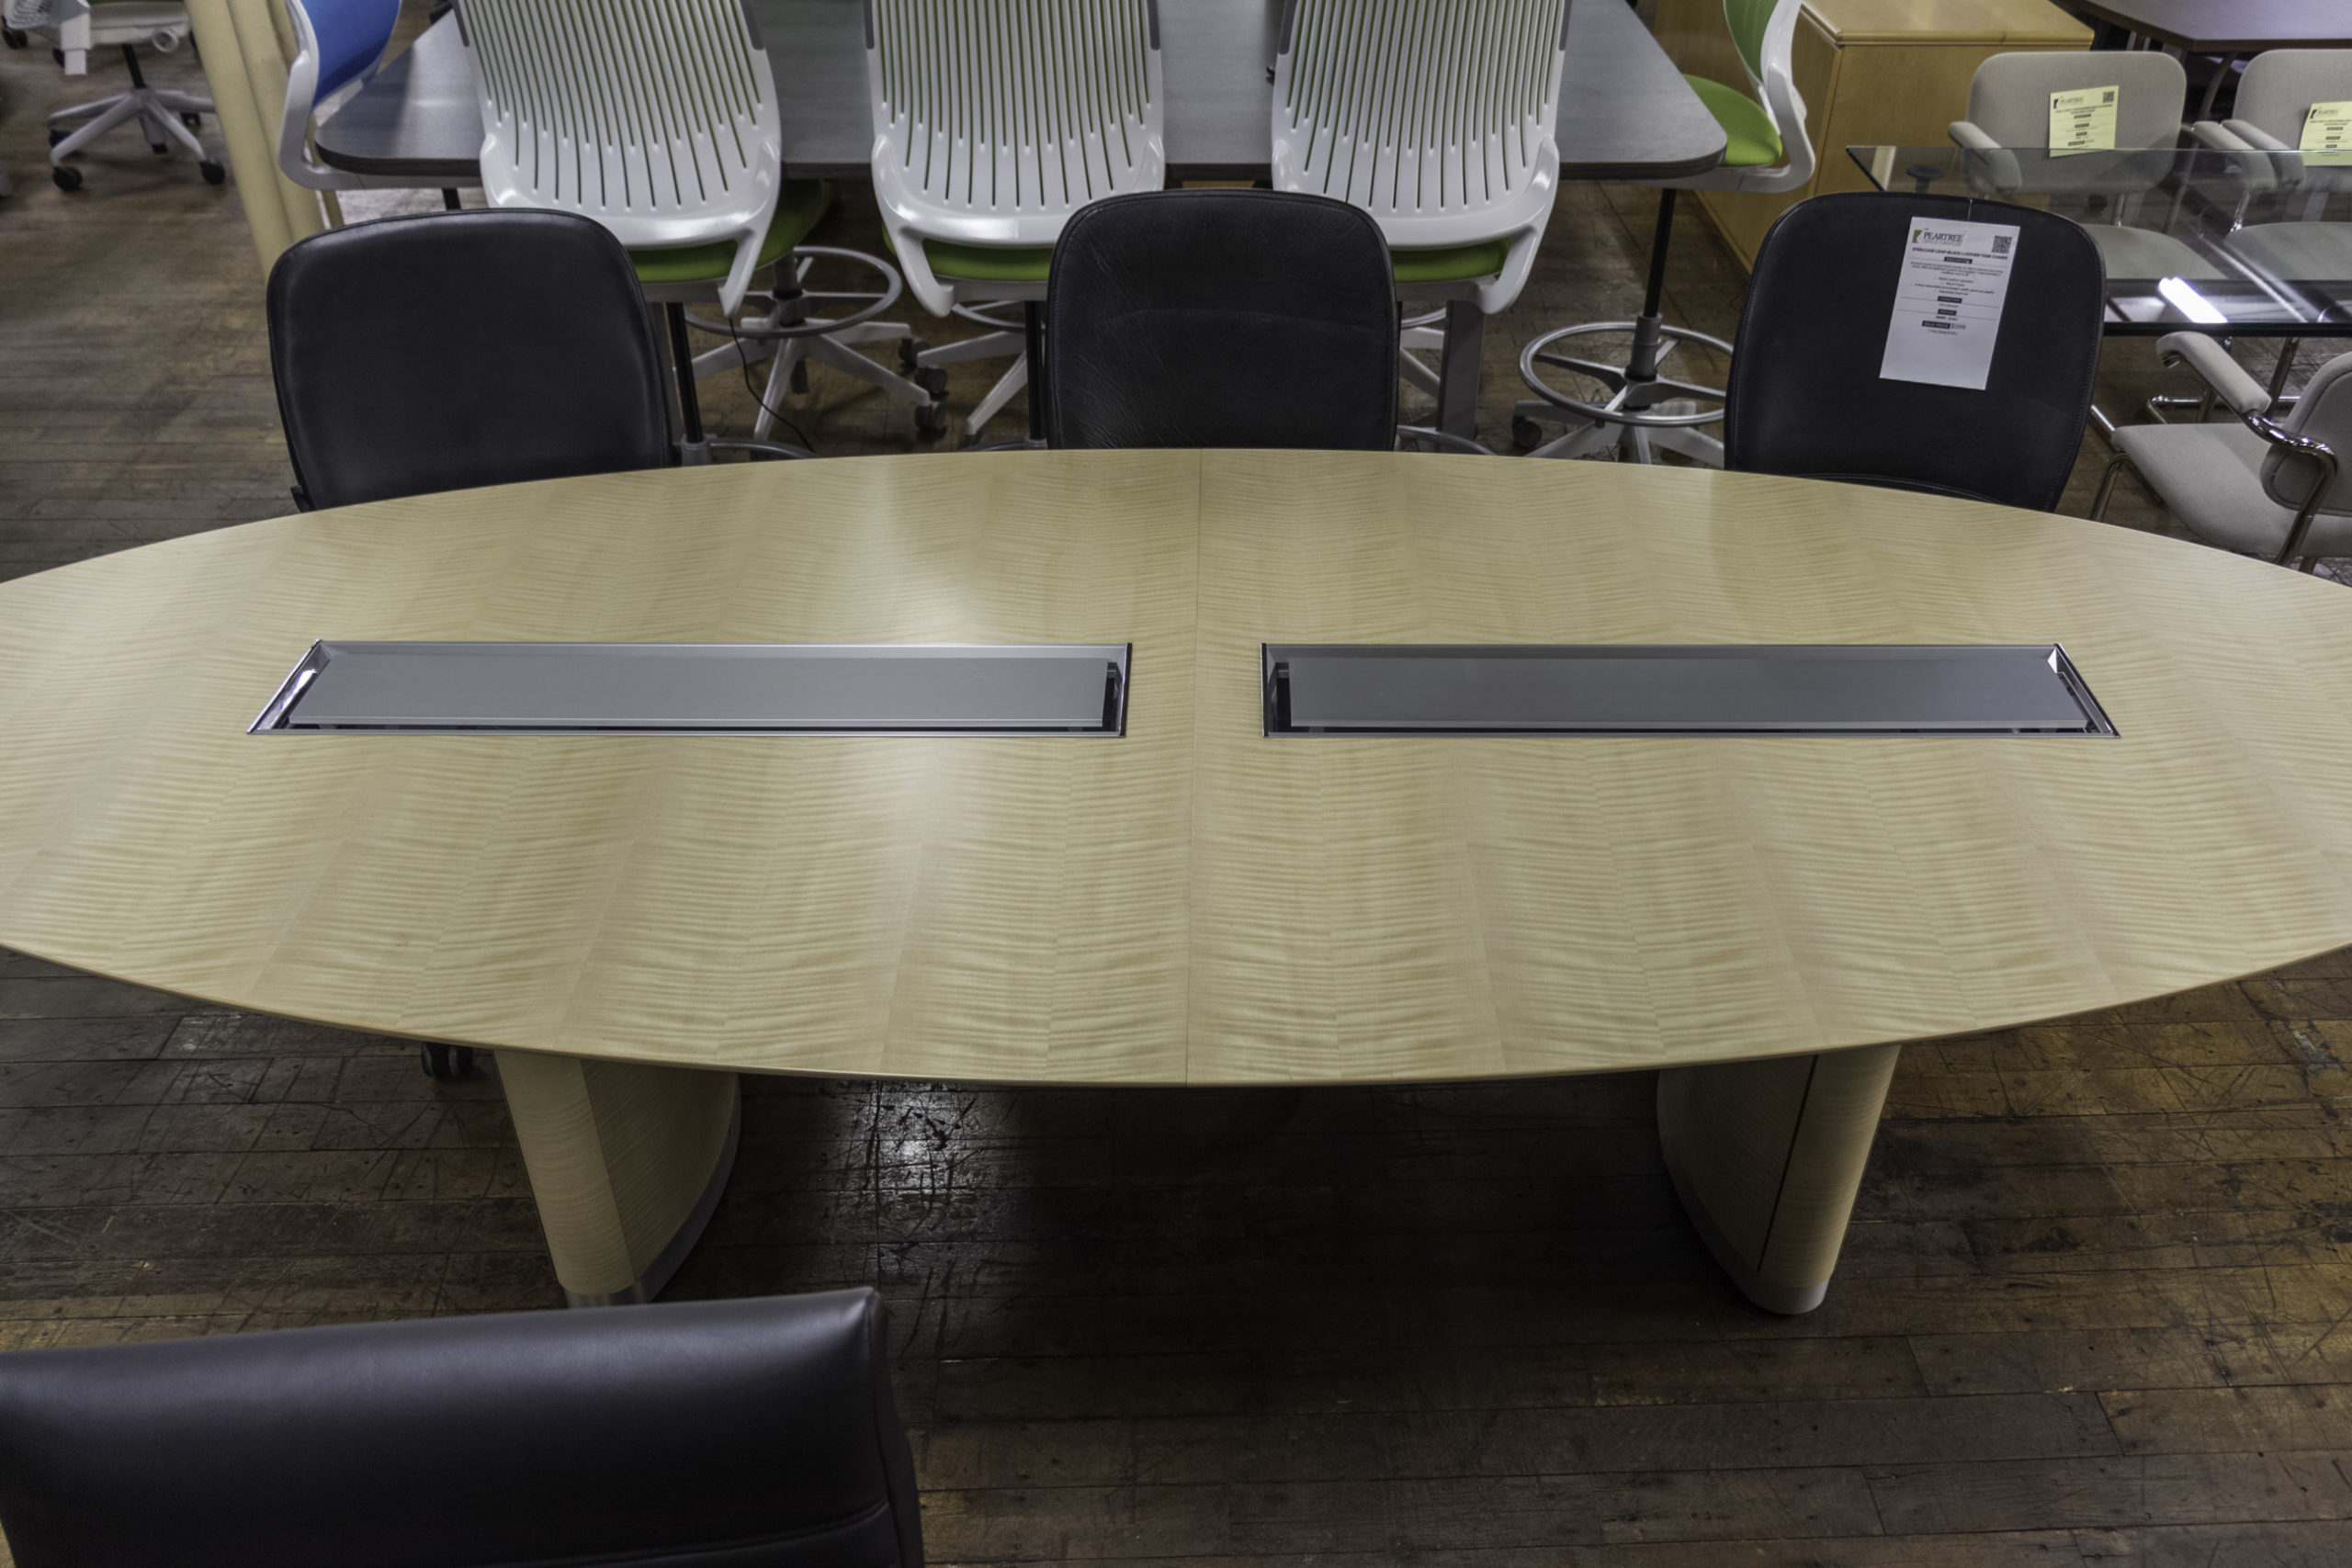conference_table: (2, 450, 2348, 1325)
